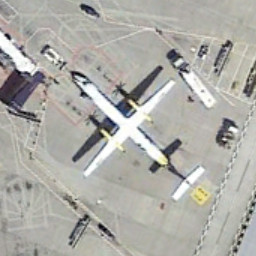Airplane: (51, 60, 207, 203)
